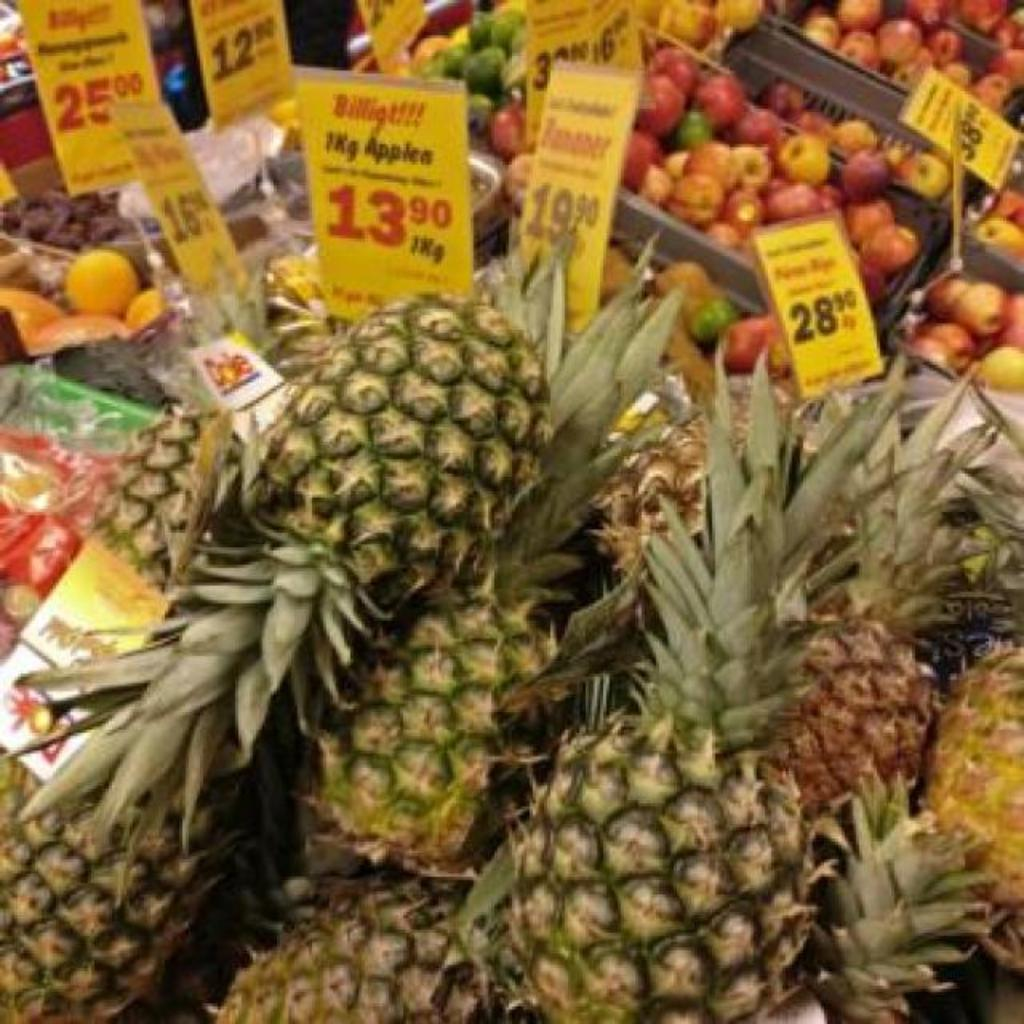pineapple: (36, 296, 542, 833), (500, 430, 848, 1024), (320, 290, 672, 863), (778, 456, 962, 815), (0, 814, 220, 1023), (216, 868, 494, 1023), (814, 782, 984, 1024), (928, 648, 1024, 903), (94, 408, 224, 589)
